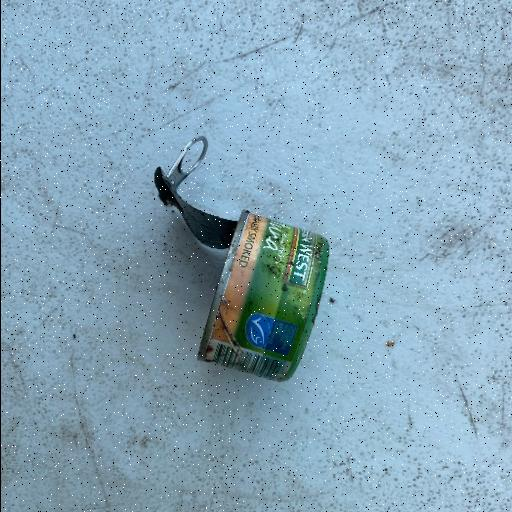Metal: (152, 134, 332, 385)
